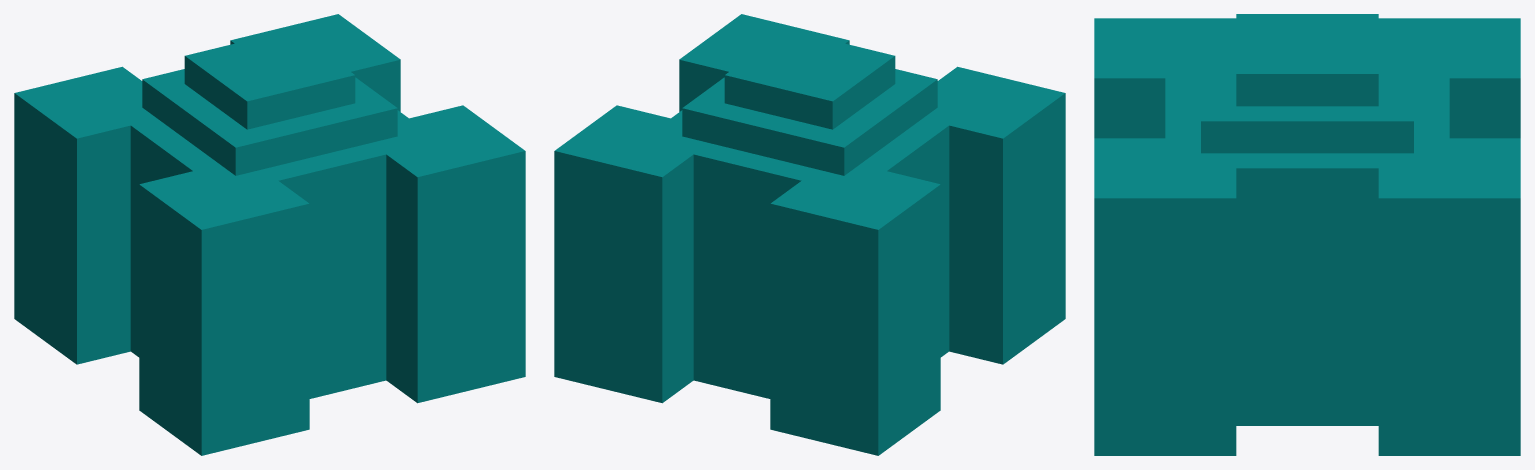
Rendered from Body.fbx.
3 views of the same model, side by side, from view 1: azimuth 30°, elevation 25°; view 2: azimuth 150°, elevation 25°; view 3: azimuth 270°, elevation 25° (orthographic). The views are drawn at different scales.
Parts seen in each view (by area): view 1: polySurface6; view 2: polySurface6; view 3: polySurface6.
Part boxes in pixels (bbox=[...]): polySurface6: bbox=[14, 14, 525, 455]; polySurface6: bbox=[554, 14, 1065, 455]; polySurface6: bbox=[1094, 14, 1520, 455].
Size of the model in its own units: 12 by 10 by 12.
